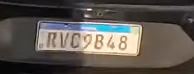Placa_mercosul_carro: (34, 21, 142, 56)
